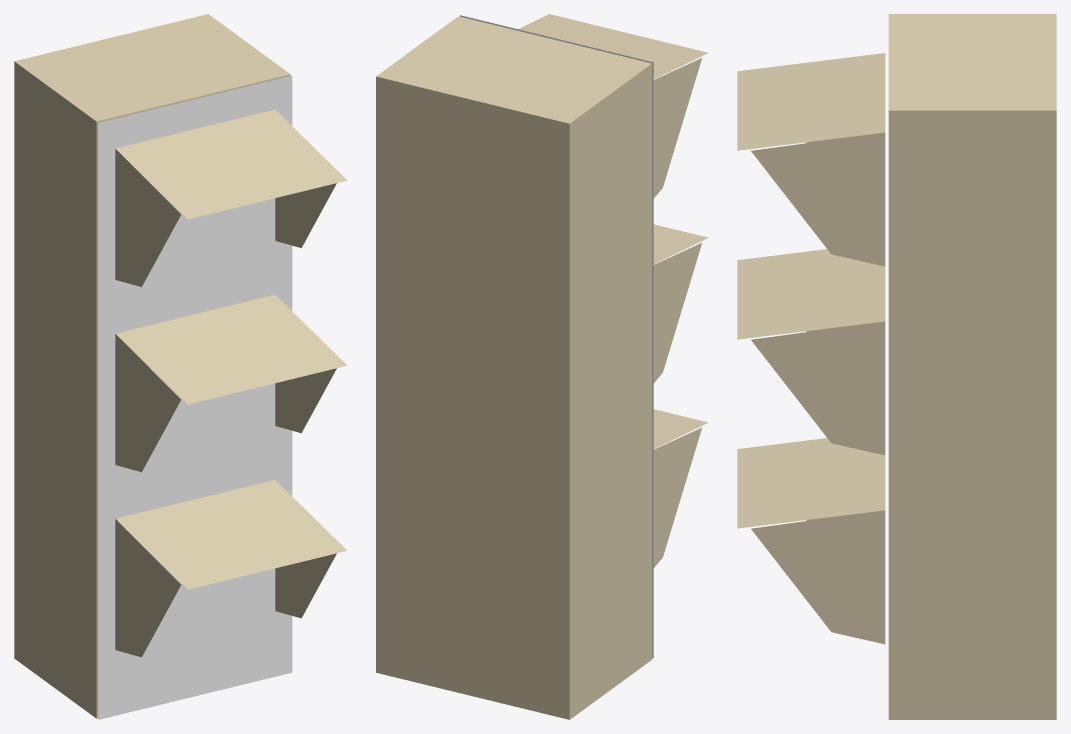
Rendered from SignalHead.fbx.
3 renders of one model, left to right at view 1: azimuth 30°, elevation 25°; view 2: azimuth 150°, elevation 25°; view 3: azimuth 270°, elevation 25°, orthographic. The views are drawn at different scales.
Visible parts, largest first — view 1: SignalHead.006; view 2: SignalHead.006; view 3: SignalHead.006.
Boxes of the visible parts, bbox=[...] form: SignalHead.006: bbox=[14, 14, 347, 719]; SignalHead.006: bbox=[376, 14, 708, 719]; SignalHead.006: bbox=[737, 14, 1056, 719].
Bounding box in the file's own units: 0.34 × 1 × 0.475.
